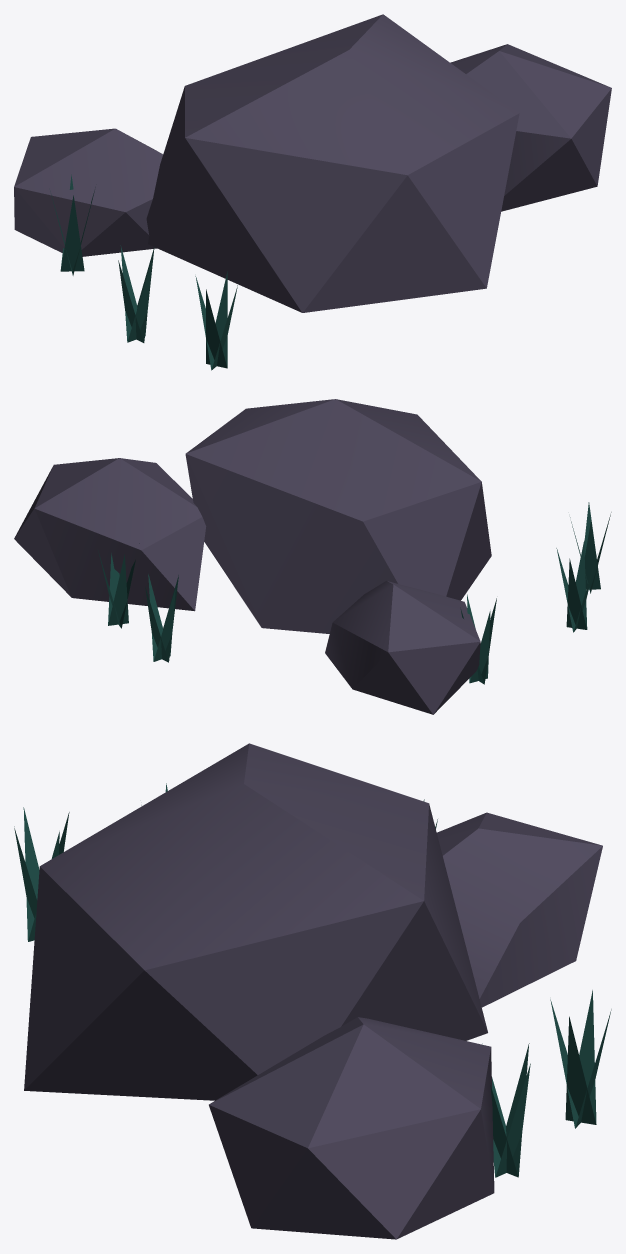
The model's file is Ground_Rock.fbx.
3 renders of one model, top to bottom at view 1: azimuth 30°, elevation 25°; view 2: azimuth 150°, elevation 25°; view 3: azimuth 270°, elevation 25°, orthographic. The views are drawn at different scales.
Visible parts, largest first — view 1: Ground_Rock_Mesh; view 2: Ground_Rock_Mesh; view 3: Ground_Rock_Mesh.
Part boxes in pixels (<box>): Ground_Rock_Mesh: <box>14,14,611,370</box>; Ground_Rock_Mesh: <box>14,399,611,714</box>; Ground_Rock_Mesh: <box>14,743,611,1239</box>.
Bounding box in the file's own units: 1.34 × 0.5075 × 0.9021.
